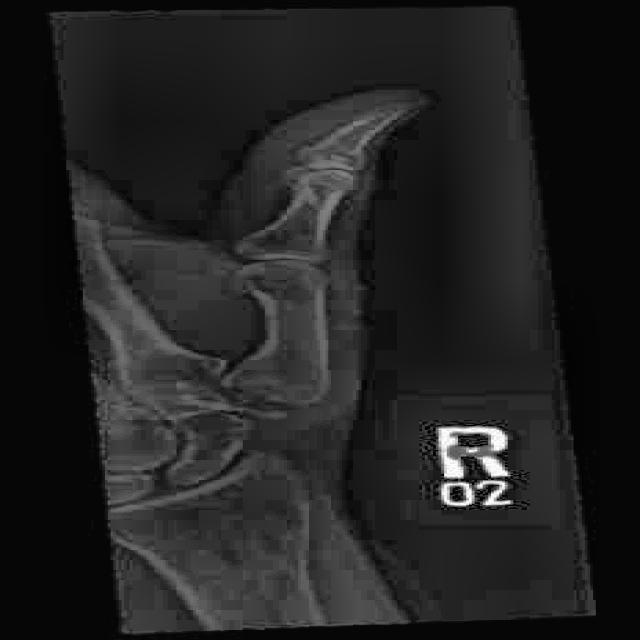fingers positive: (267, 130, 377, 172)
